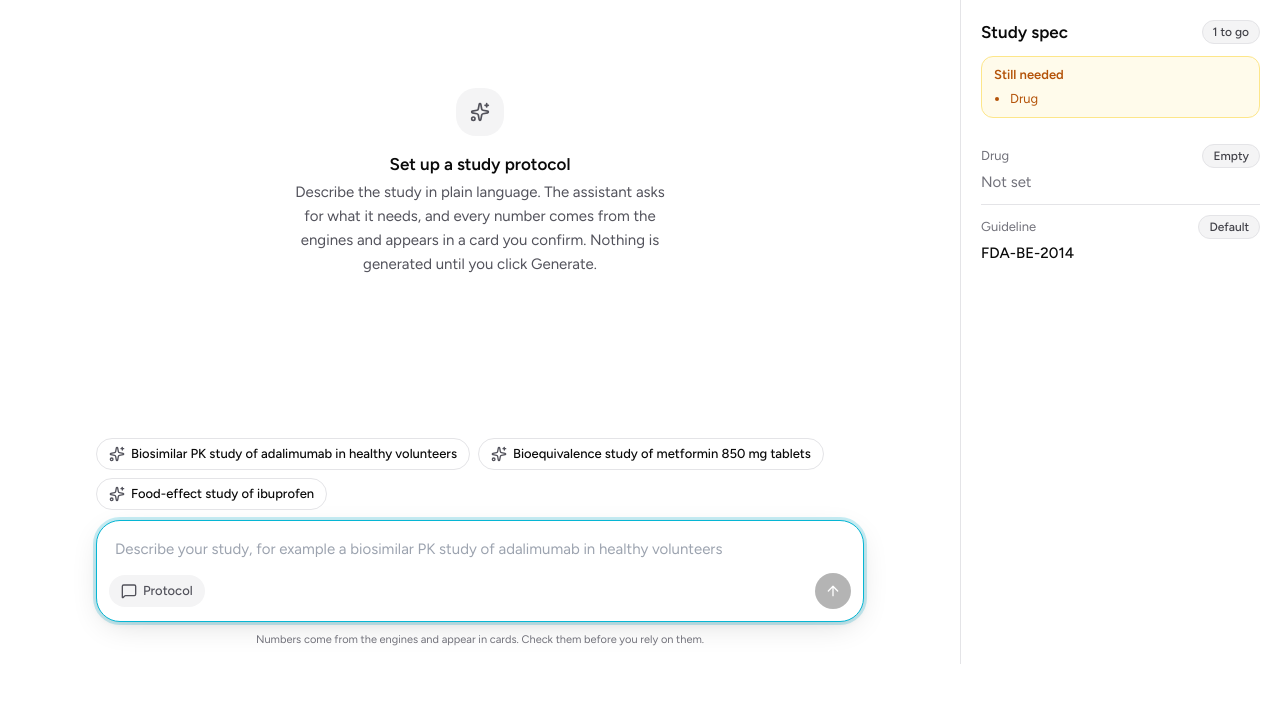
Test case: ChatPage › puts the typed text back and explains when the license is not active
Replace the text in the text box named "Message the assistant" with "my study description": (480, 548) [109,532,851,564]
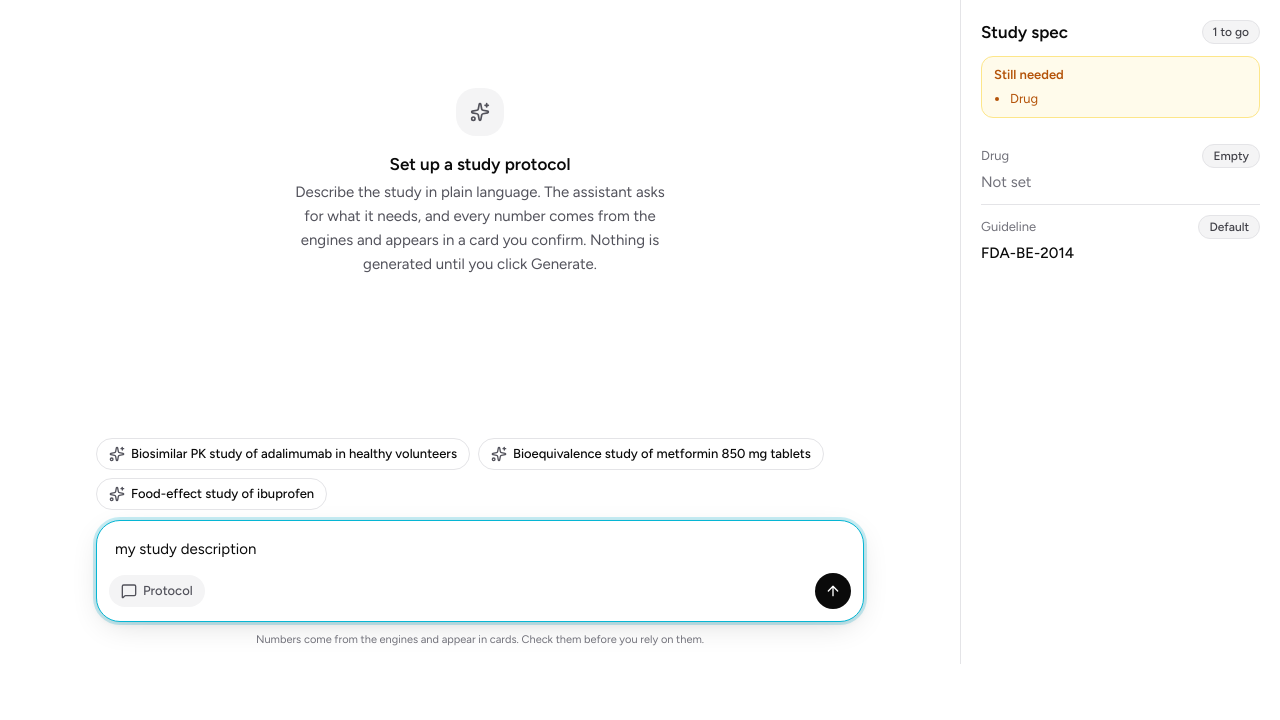
Press Enter in the text box named "Message the assistant", box [109,532,851,564]
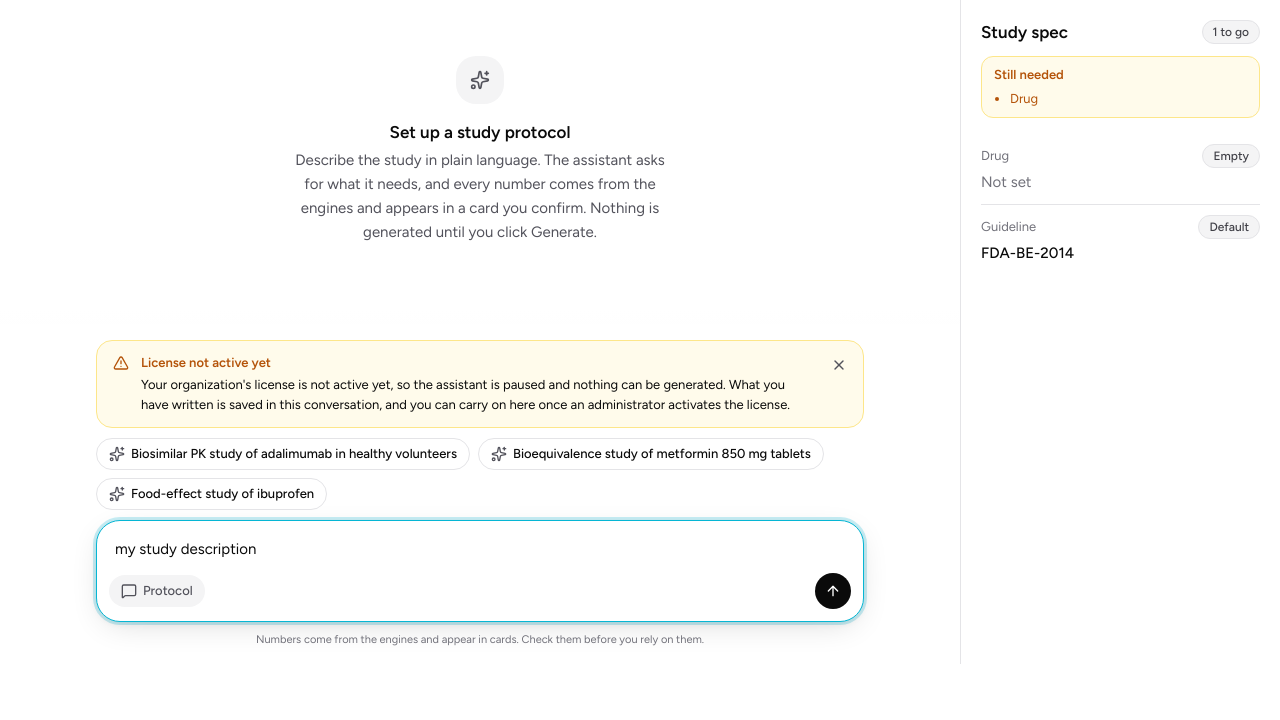
Expected: the text "license is not active yet, so the assistant is paused" is shown, [141,376,790,412]
